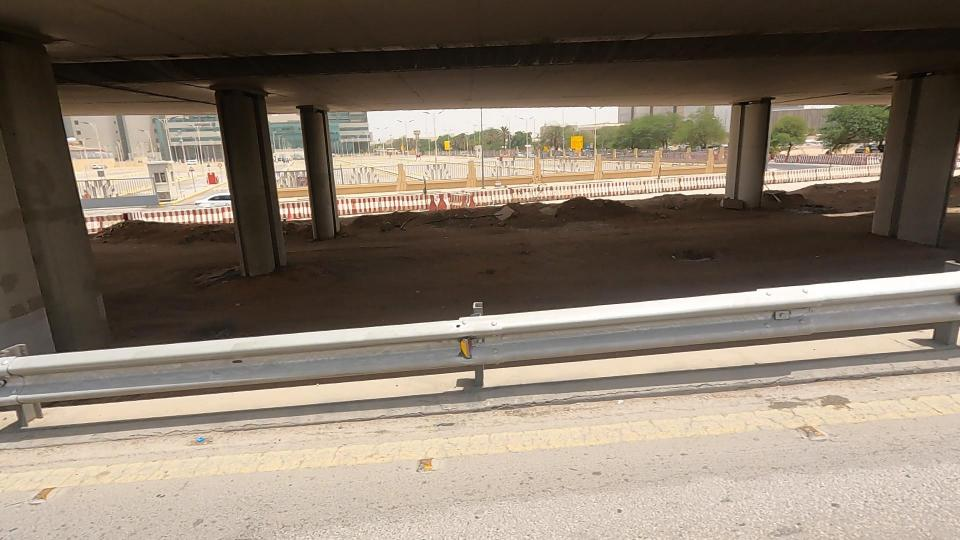SAND_ON_ROAD: (512, 164, 690, 250), (61, 191, 261, 259), (440, 174, 580, 257)
